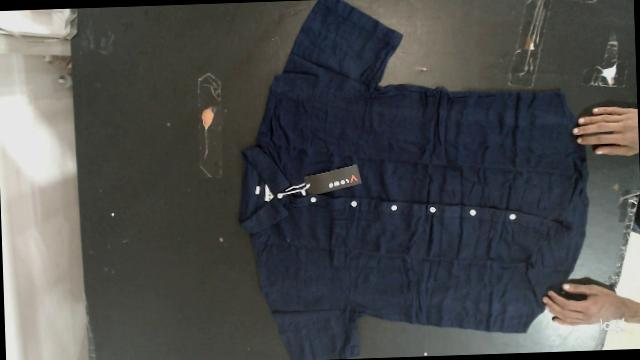new-garment: (239, 0, 588, 360)
